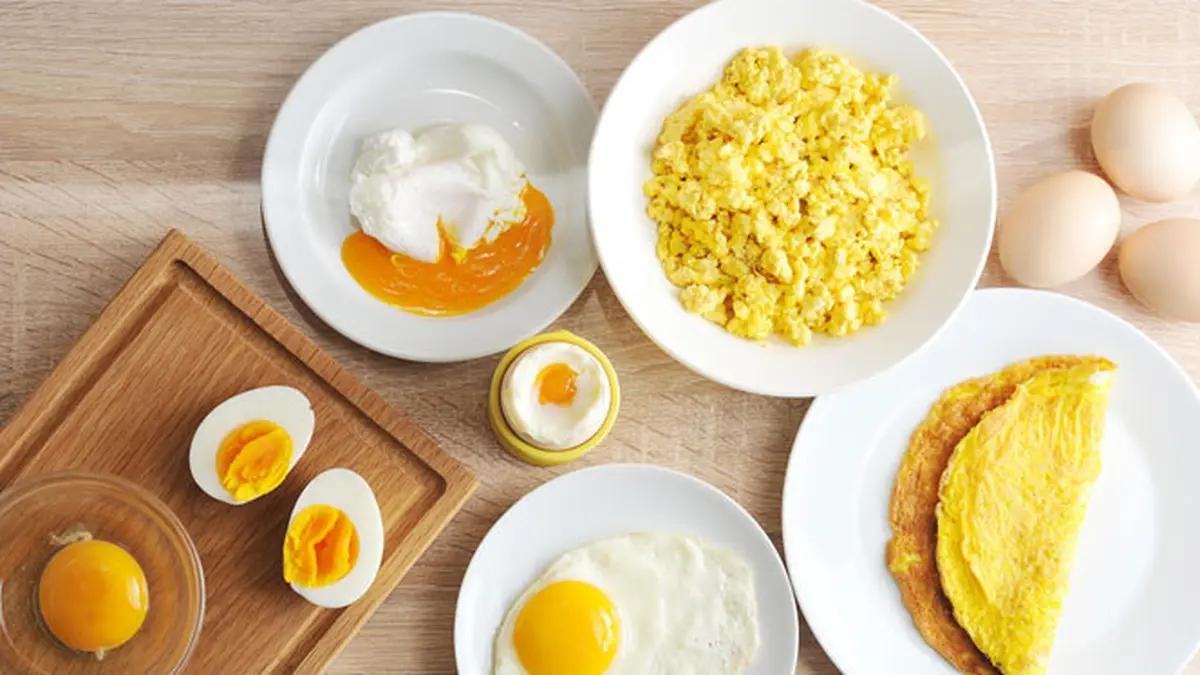telur: (705, 74, 877, 315), (948, 384, 1052, 667), (543, 562, 731, 675), (360, 137, 493, 284), (298, 489, 371, 588), (214, 397, 293, 485), (517, 357, 589, 438), (1117, 99, 1188, 179), (1138, 234, 1200, 291), (1038, 184, 1078, 270)
